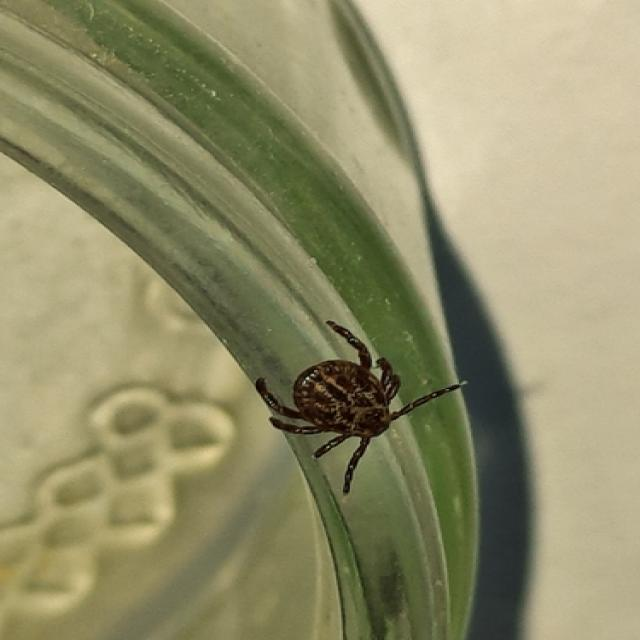Dermacentor Reticulatus-M: (254, 320, 468, 494)
